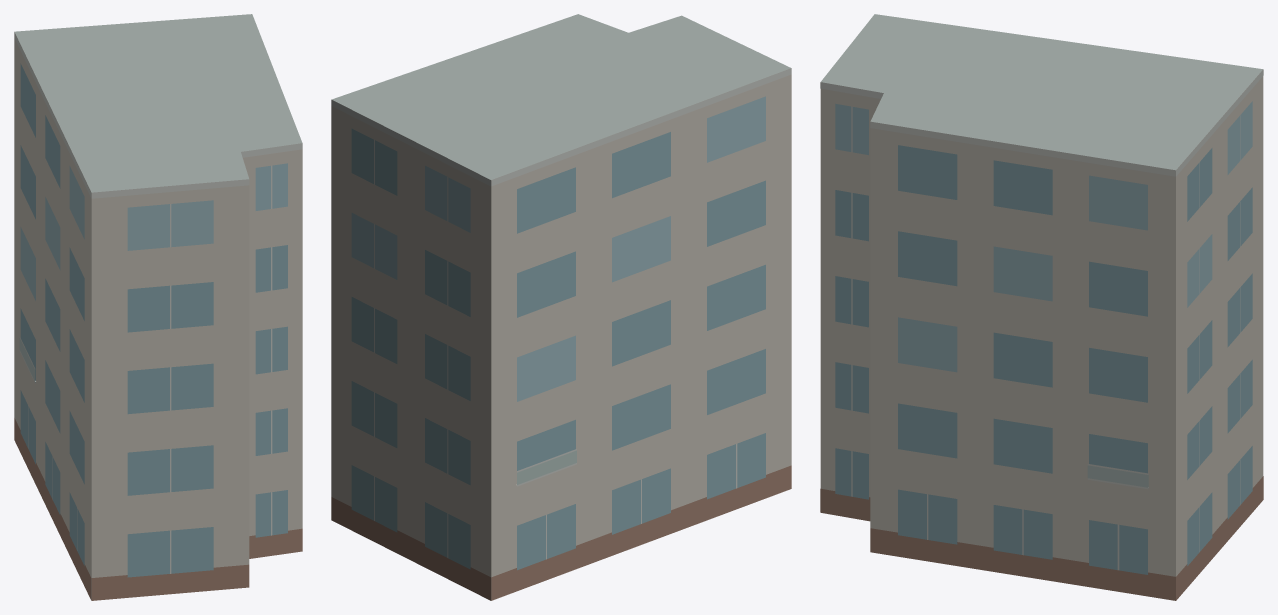
The model's file is survey-upis-32894275.glb.
3 views of the same model, side by side, from view 1: azimuth 30°, elevation 25°; view 2: azimuth 150°, elevation 25°; view 3: azimuth 270°, elevation 25° (orthographic). The views are drawn at different scales.
Visible parts, largest first — view 1: survey-upis-32894275.tmp; view 2: survey-upis-32894275.tmp; view 3: survey-upis-32894275.tmp.
Boxes of the visible parts, x1=… form: survey-upis-32894275.tmp: x1=14, y1=14, x2=302, y2=600; survey-upis-32894275.tmp: x1=331, y1=14, x2=791, y2=600; survey-upis-32894275.tmp: x1=820, y1=14, x2=1263, y2=600.
Size of the model in its own units: 12.58 by 16.15 by 15.07.
